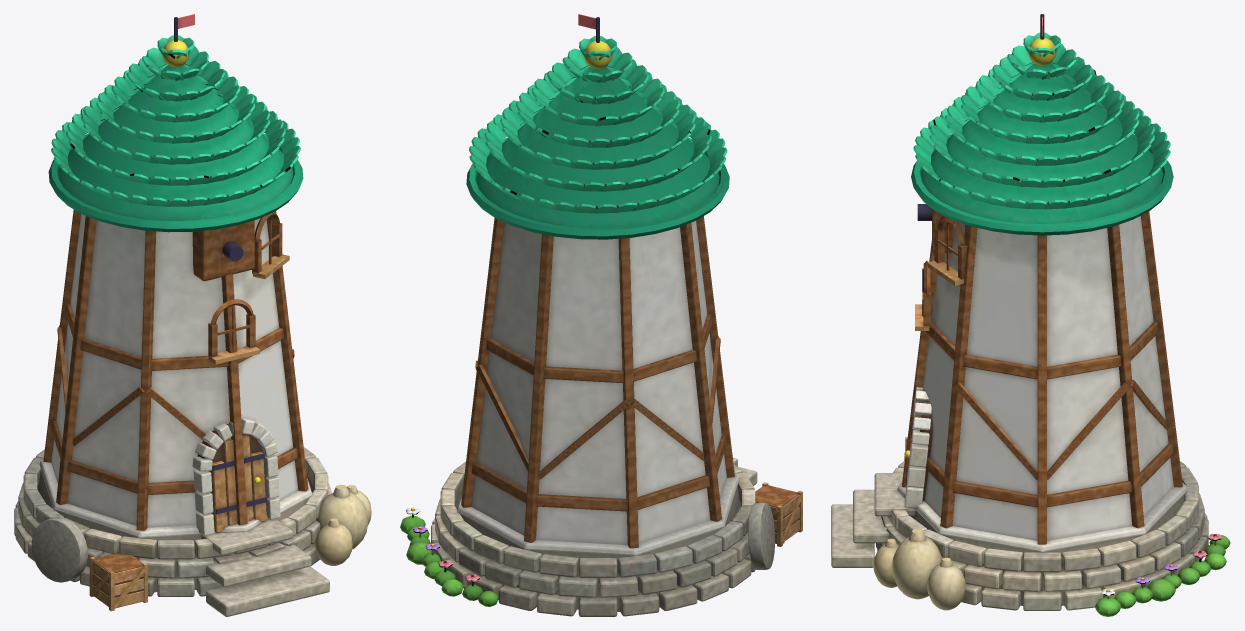
Rendered from windmill.glb.
3 renders of one model, left to right at view 1: azimuth 30°, elevation 25°; view 2: azimuth 150°, elevation 25°; view 3: azimuth 270°, elevation 25°, orthographic. The views are drawn at different scales.
Visible parts, largest first — view 1: cyl; view 2: cyl; view 3: cyl.
Boxes of the visible parts, left/top/right/bottom form: cyl: left=14, top=14, right=371, bottom=616; cyl: left=400, top=14, right=802, bottom=616; cyl: left=831, top=14, right=1230, bottom=616.
Size of the model in its own units: 7.69 by 12.19 by 8.33.
Materials: 1 (1 with a texture image).
